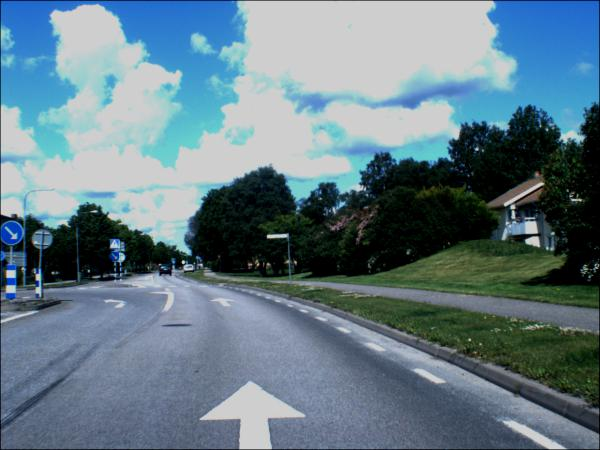PASS_RIGHT_SIDE: (2, 222, 25, 247), (111, 253, 121, 263), (173, 263, 177, 265)
PEDESTRIAN_CROSSING: (111, 241, 122, 250), (173, 260, 177, 263)
PRIORITY_ROAD: (183, 261, 187, 266)
